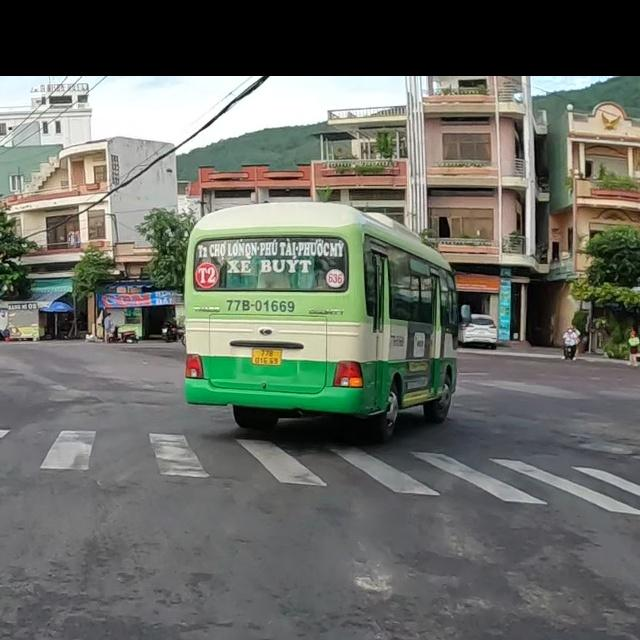license-plate: (251, 348, 282, 366)
